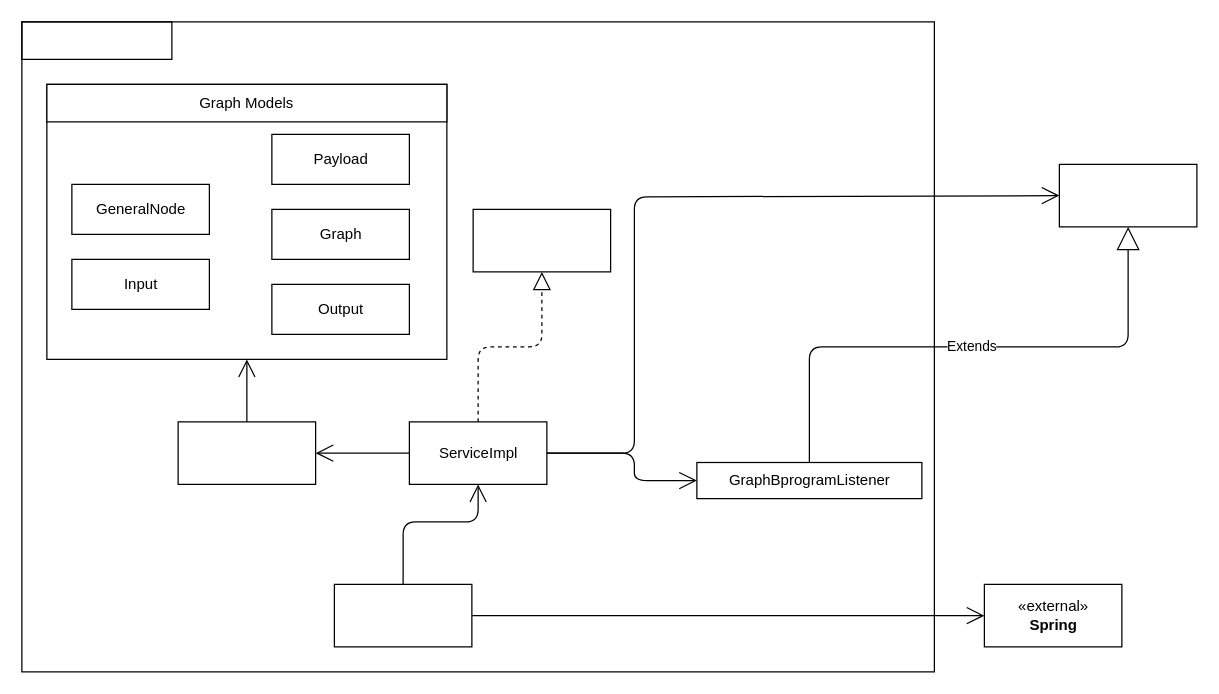
The diagram is 1219 pixels wide and 694 high, and some of its shapes have lost their labels. Here are the shapes that lost their labels. From the top down, the centre of each, then its label:
(x=96, y=40): BPjs Server
(x=1127, y=195): «external» BPjs Engine
(x=541, y=240): «interface» IService
(x=246, y=452): Parser
(x=402, y=615): Controller
